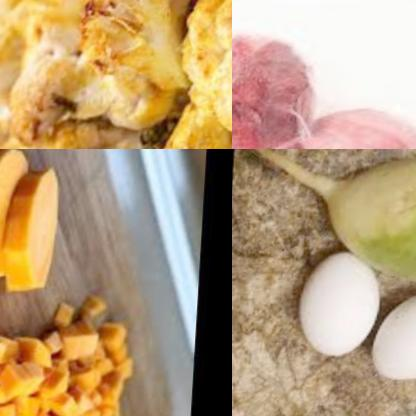beet: (232, 25, 319, 149), (248, 103, 416, 149)
cayliflower: (0, 0, 232, 149)
pumpkin: (0, 294, 156, 416), (2, 167, 68, 301), (0, 149, 33, 286)
redka: (313, 149, 416, 299)
